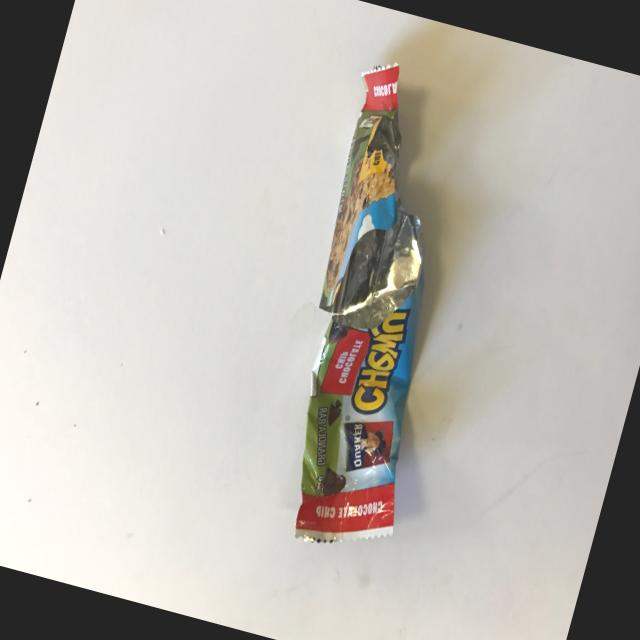Plastic: (165, 20, 567, 604)
